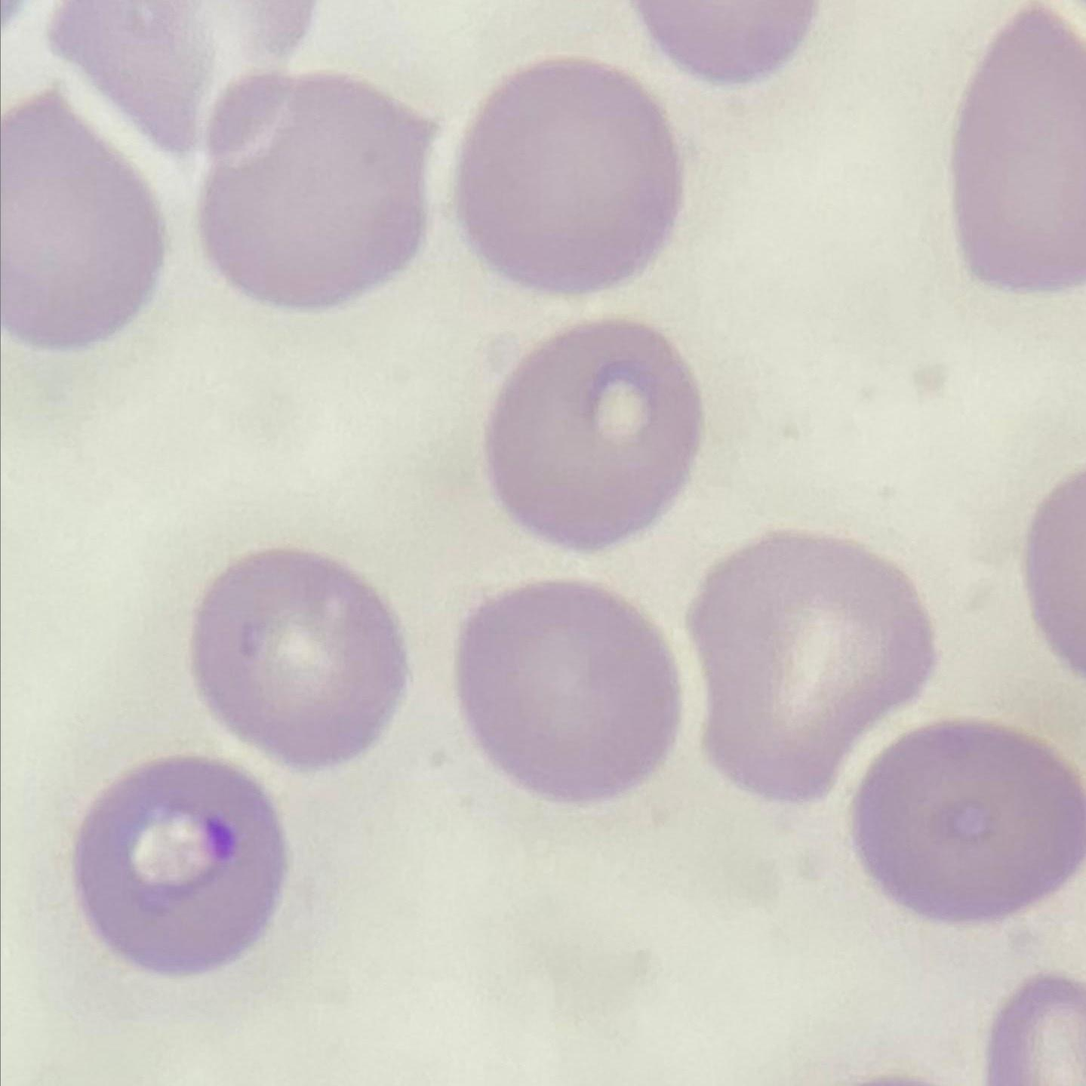Infected: (74, 755, 283, 978)
Uninfected: (694, 531, 935, 802), (198, 72, 431, 308), (464, 57, 684, 292), (455, 574, 677, 802), (191, 546, 413, 774), (853, 725, 1086, 925), (491, 332, 701, 547), (0, 83, 164, 353), (945, 0, 1086, 301)
